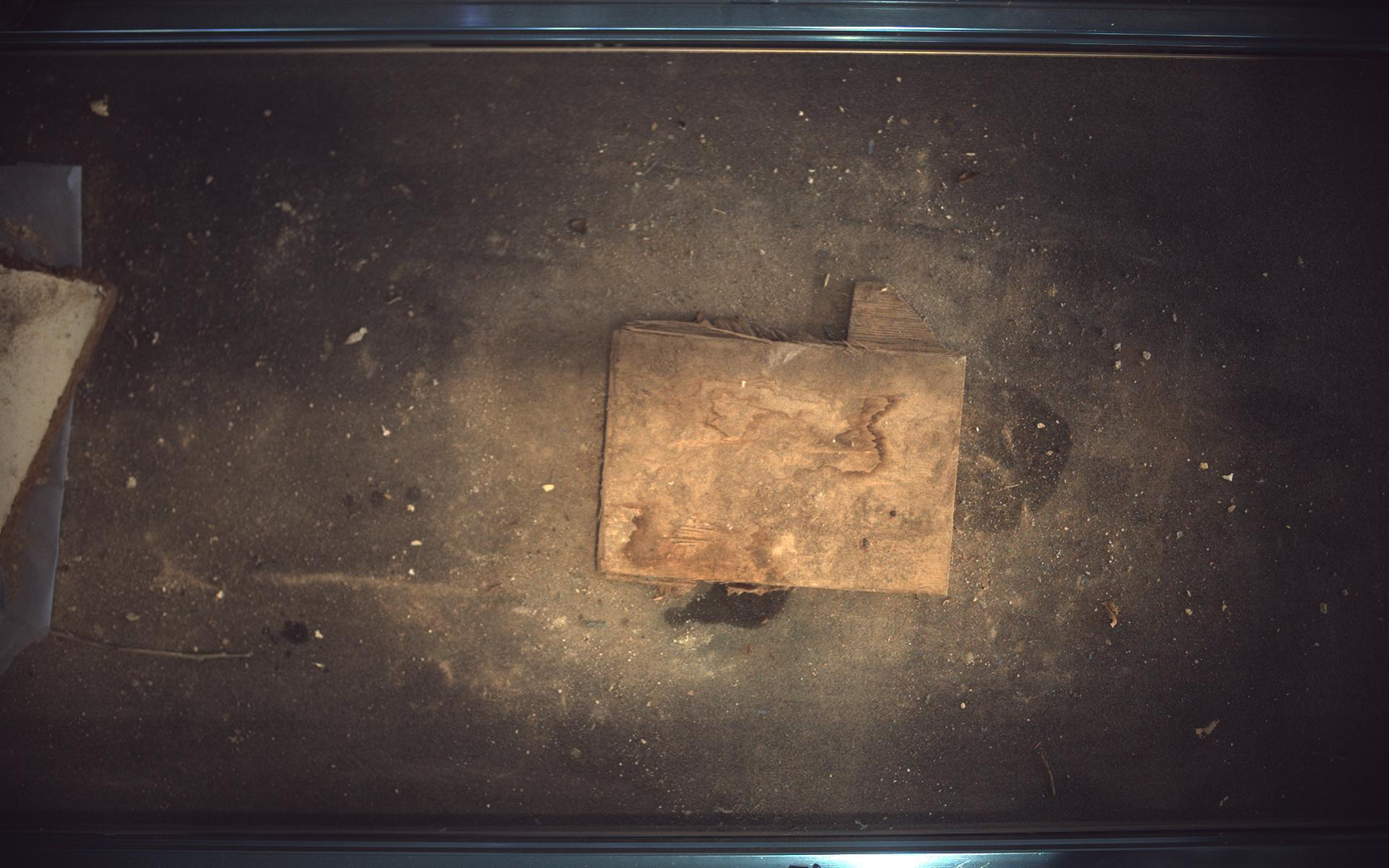wood: (598, 281, 968, 596), (1, 260, 116, 555)
